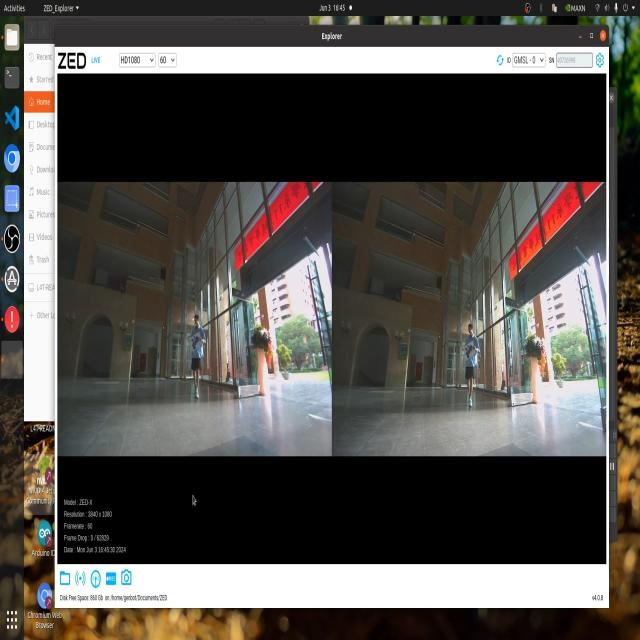blue: (189, 334, 201, 354), (467, 339, 474, 363)
